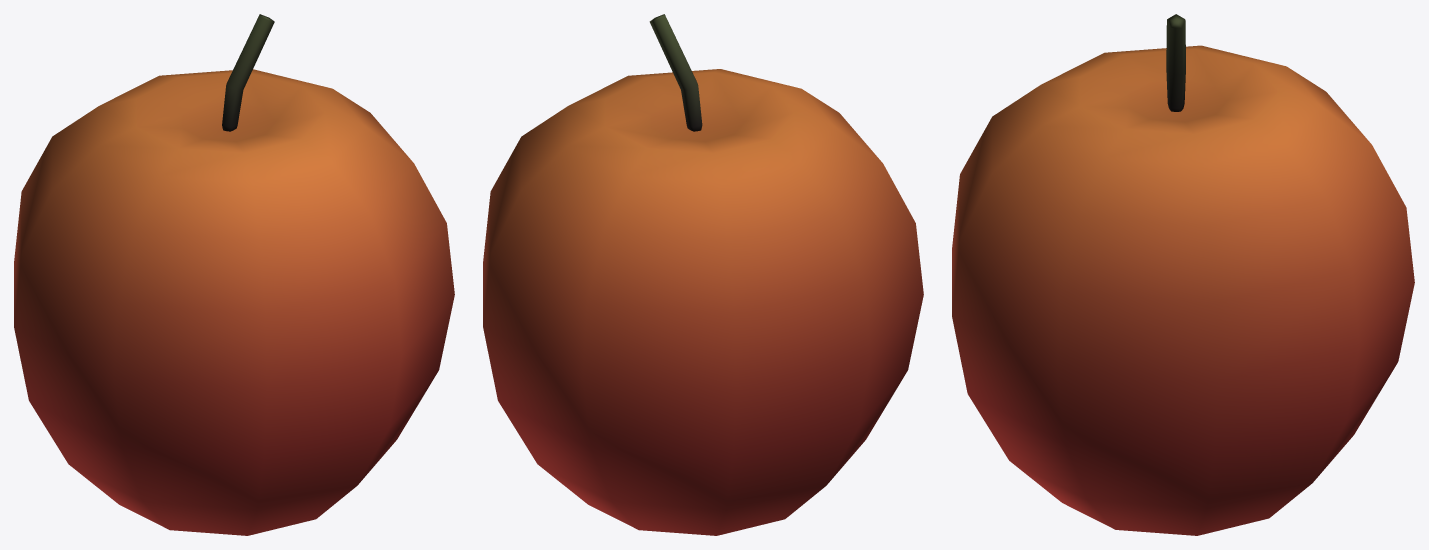
3 views of the same model, side by side, from view 1: azimuth 30°, elevation 25°; view 2: azimuth 150°, elevation 25°; view 3: azimuth 270°, elevation 25° (orthographic). The views are drawn at different scales.
Parts seen in each view (by area): view 1: alt2.015; view 2: alt2.015; view 3: alt2.015.
Boxes of the visible parts, left/top/right/bottom form: alt2.015: left=14, top=14, right=454, bottom=535; alt2.015: left=483, top=14, right=923, bottom=535; alt2.015: left=952, top=14, right=1414, bottom=535.
Bounding box in the file's own units: 0.411 × 0.5 × 0.4048.
